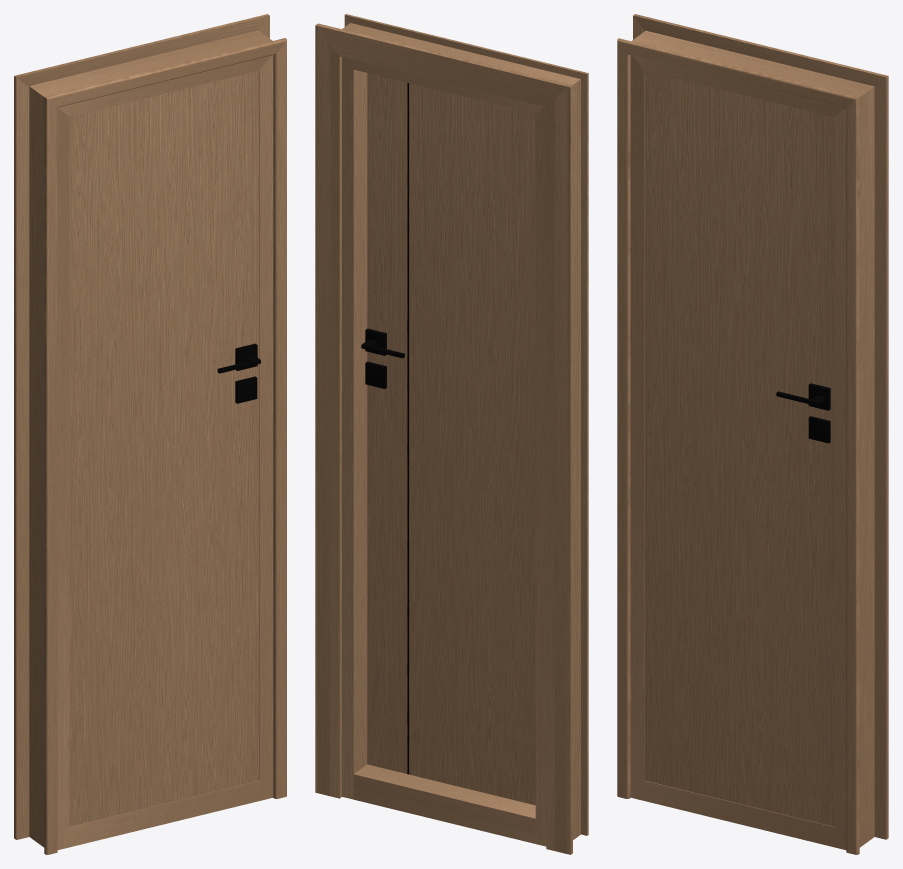
Rendered from half.glb.
3 views of the same model, side by side, from view 1: azimuth 30°, elevation 25°; view 2: azimuth 150°, elevation 25°; view 3: azimuth 330°, elevation 25° (orthographic).
Visible parts, largest first — view 1: _half_door_, _half_90_60_frame, _half_architrave_back, _half_L_architrave, _half_threshold, _half_architrave_front; view 2: _half_door_, _half_90_60_frame, _half_L_architrave, _half_architrave_front, _half_architrave_back, _half_threshold; view 3: _half_door_, _half_90_60_frame, _half_architrave_back, _half_L_architrave, _half_threshold, _half_architrave_front.
Boxes of the visible parts, x1,y1,x2,y2 form: _half_door_: [69, 70, 260, 826]; _half_90_60_frame: [29, 30, 273, 849]; _half_architrave_back: [44, 38, 286, 854]; _half_L_architrave: [14, 14, 269, 839]; _half_threshold: [69, 780, 259, 847]; _half_architrave_front: [17, 14, 269, 76]; _half_door_: [361, 73, 535, 805]; _half_90_60_frame: [342, 23, 580, 846]; _half_L_architrave: [315, 23, 572, 854]; _half_architrave_front: [317, 23, 570, 853]; _half_architrave_back: [344, 14, 588, 835]; _half_threshold: [353, 764, 535, 843]; _half_door_: [644, 71, 834, 826]; _half_90_60_frame: [630, 30, 874, 849]; _half_architrave_back: [617, 38, 859, 854]; _half_L_architrave: [633, 14, 888, 839]; _half_threshold: [644, 780, 834, 847]; _half_architrave_front: [634, 15, 886, 77].
Bounding box in the file's own units: 0.6311 × 1.81 × 0.1385.
Materials: 2 (2 with a texture image).
